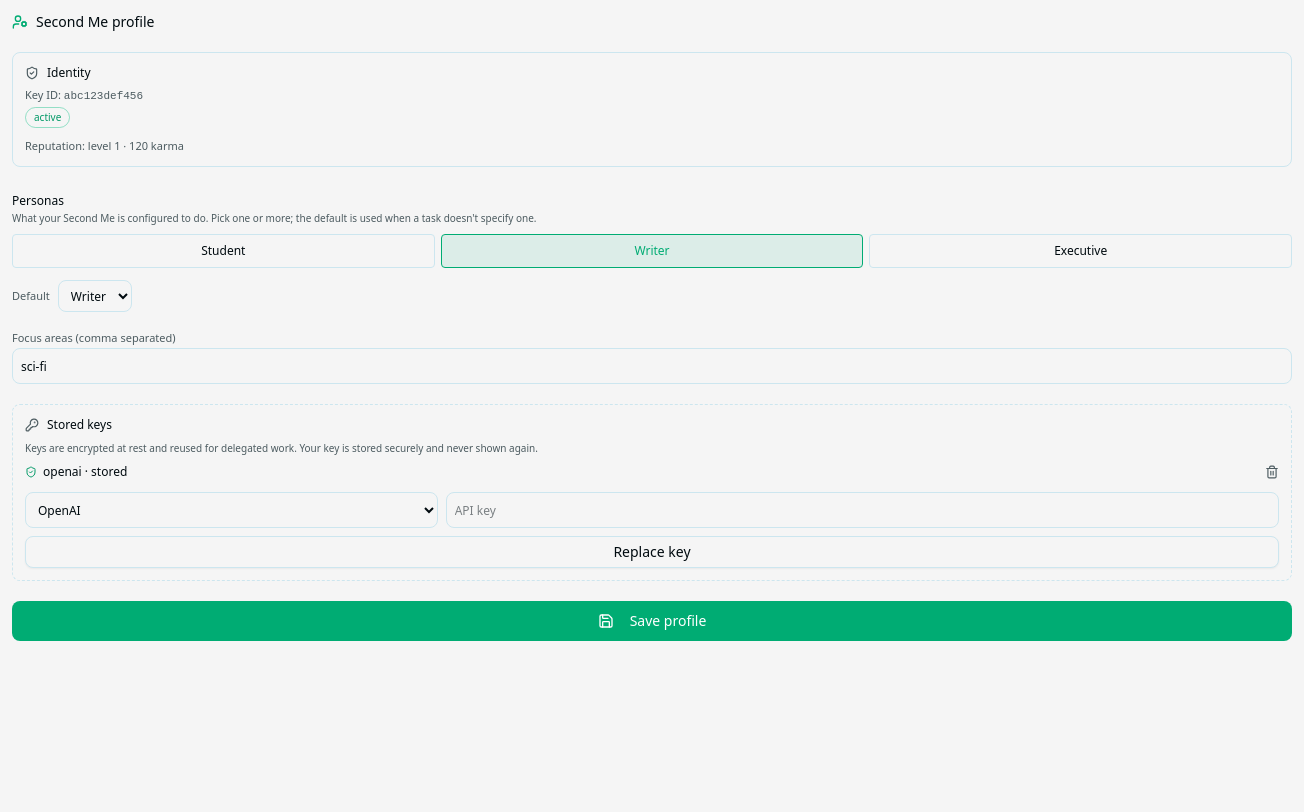
Scenario: SecondMeProfilePanel › surfaces the server 400 message when the profile is invalid
The image size is (1304, 812).
Expected: the text "Second Me profile" is shown, [36,12,154,32]
Click the button "Save profile" at (652, 621), box [12,601,1292,641]
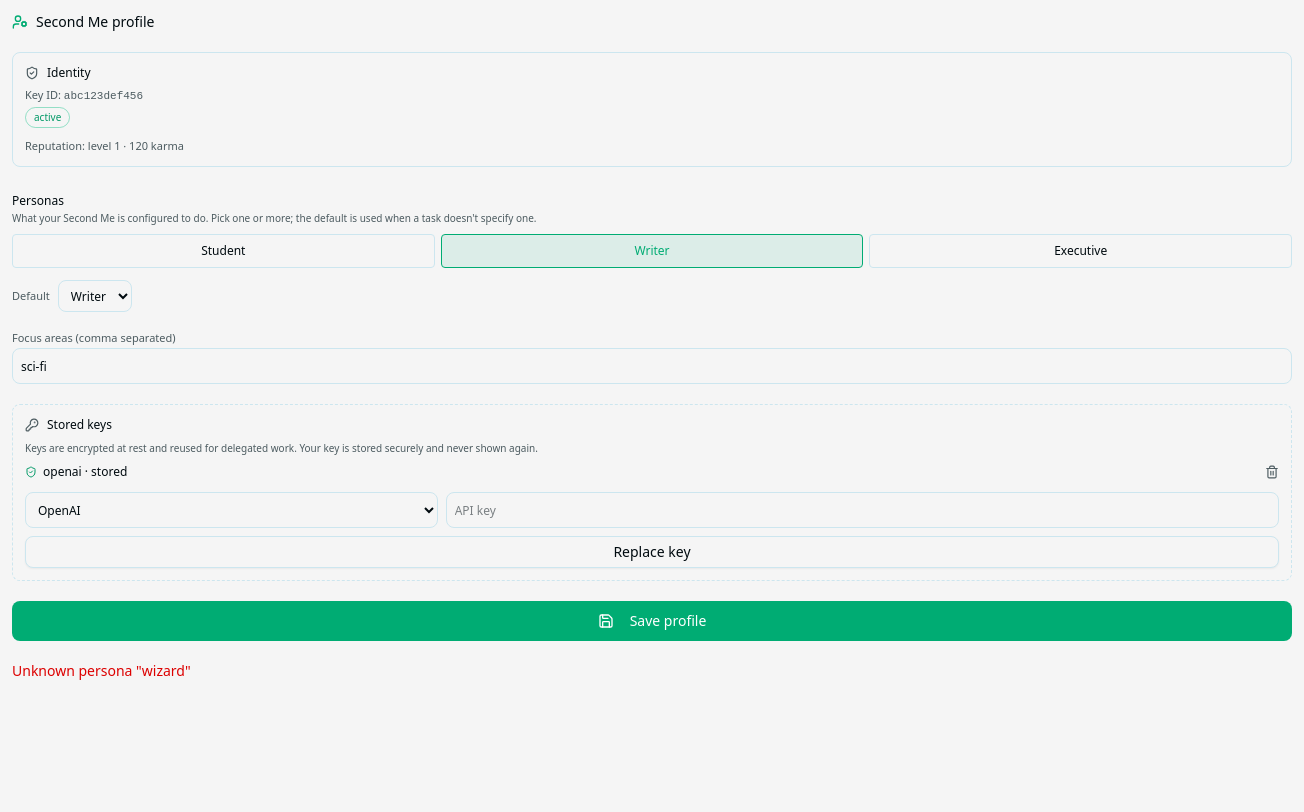
Result: the text "Unknown persona \"wizard\"" is shown at [12,661,191,680]
